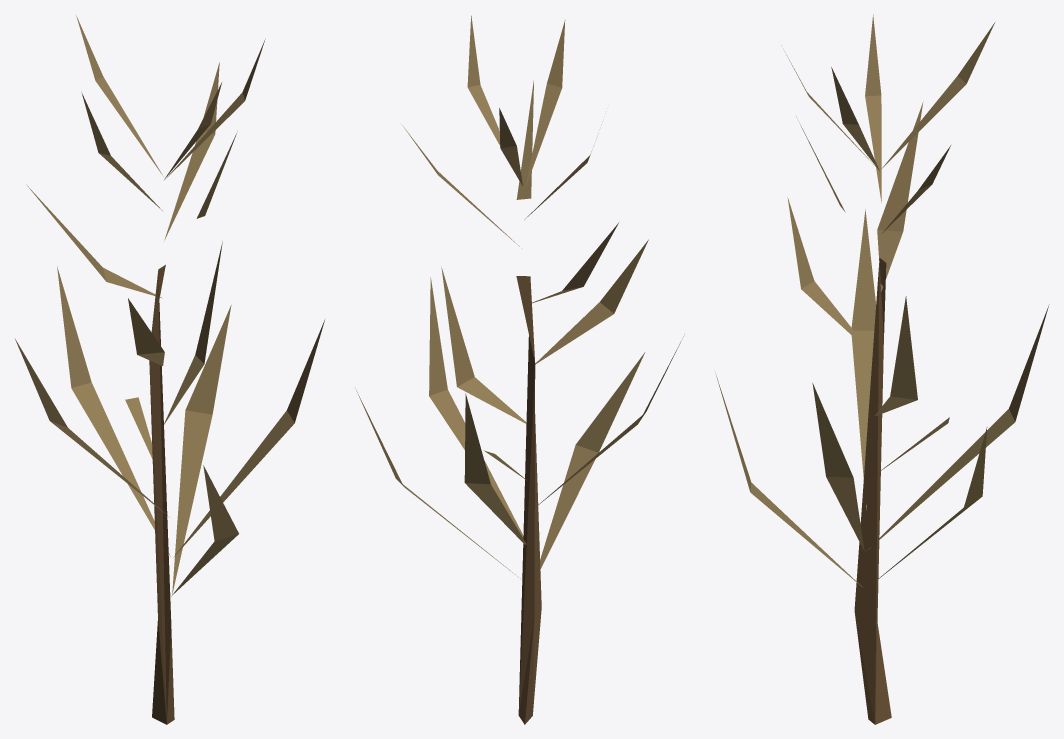
Rendered from deco_desert_3.glb.
3 renders of one model, left to right at view 1: azimuth 30°, elevation 25°; view 2: azimuth 150°, elevation 25°; view 3: azimuth 270°, elevation 25°, orthographic. The views are drawn at different scales.
Parts seen in each view (by area): view 1: lod0; view 2: lod0; view 3: lod0.
Part boxes in pixels (x1,y1,x2,y2): lod0: (15, 15, 324, 724); lod0: (356, 15, 684, 724); lod0: (715, 14, 1049, 724).
Size of the model in its own units: 0.3479 by 0.7933 by 0.3479.
